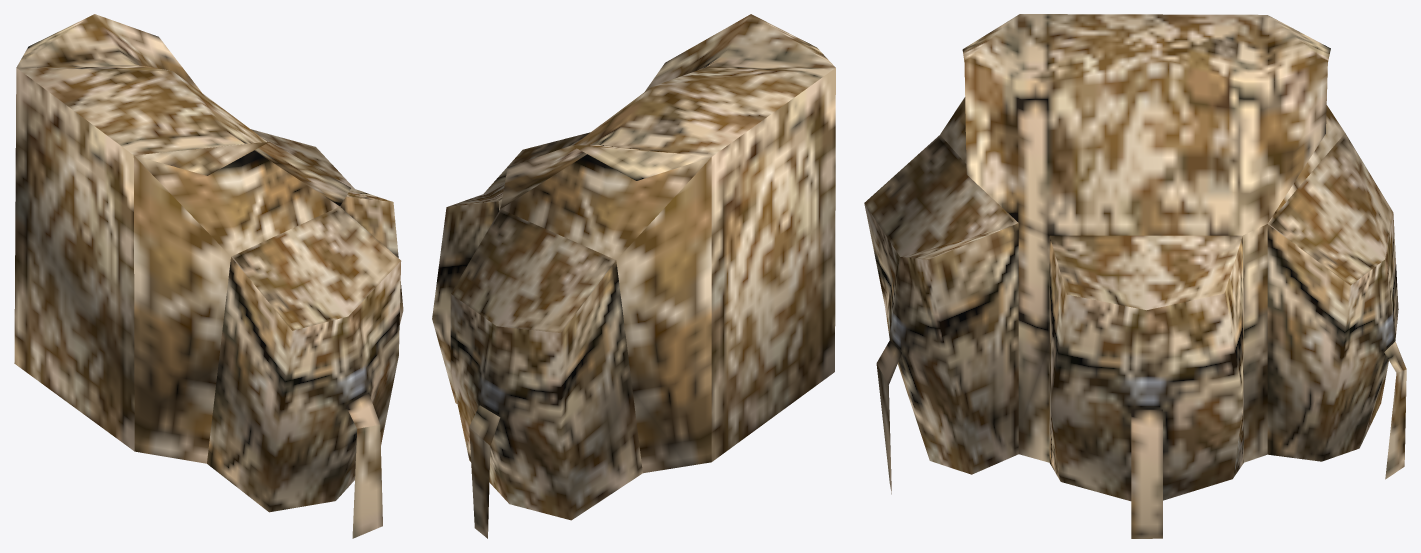
File: UK_BackpackMedium.glb
The picture shows the model from 3 angles, left to right: view 1: azimuth 30°, elevation 25°; view 2: azimuth 150°, elevation 25°; view 3: azimuth 270°, elevation 25°; orthographic projection. The views are drawn at different scales.
Parts seen in each view (by area): view 1: UK_BACKPACKMEDIUM; view 2: UK_BACKPACKMEDIUM; view 3: UK_BACKPACKMEDIUM.
Part boxes in pixels (x1=…): UK_BACKPACKMEDIUM: x1=14, y1=14, x2=403, y2=538; UK_BACKPACKMEDIUM: x1=432, y1=14, x2=835, y2=538; UK_BACKPACKMEDIUM: x1=864, y1=14, x2=1406, y2=538.
Size of the model in its own units: 0.366 by 0.428 by 0.53.
1 material, 1 textured.
